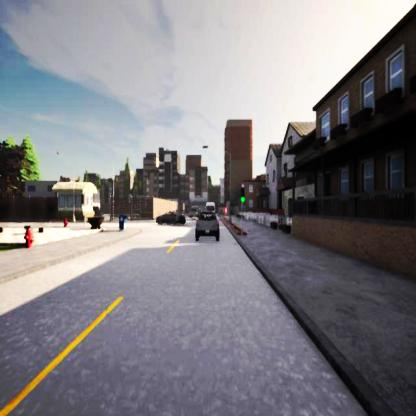vehicle: (196, 214, 219, 240), (155, 210, 186, 225)
